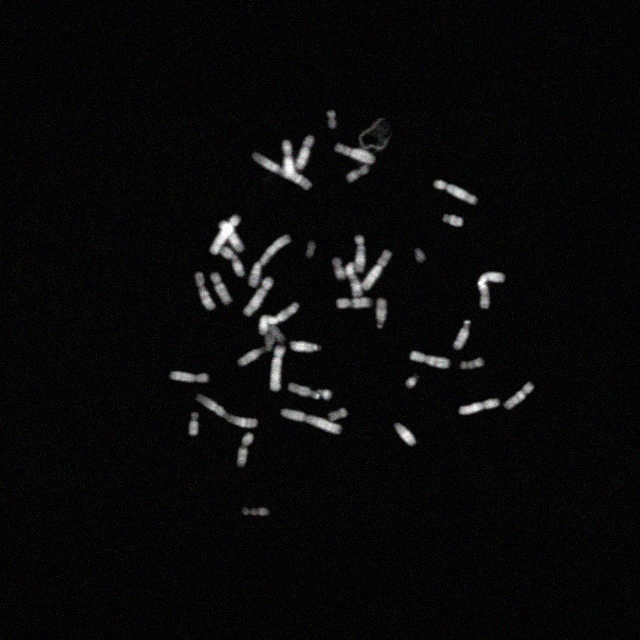chromosome: (252, 153, 313, 190), (248, 234, 290, 286), (197, 394, 258, 428), (281, 408, 341, 434), (258, 302, 300, 334), (243, 276, 274, 316), (210, 213, 240, 254), (362, 250, 392, 290), (236, 336, 274, 366), (433, 180, 477, 204), (478, 272, 504, 308), (218, 220, 245, 252), (334, 144, 376, 164), (504, 383, 534, 409), (195, 272, 215, 308), (410, 351, 450, 369), (220, 248, 244, 276), (270, 346, 284, 392), (211, 272, 231, 304), (296, 136, 314, 170), (346, 262, 362, 298), (287, 383, 319, 401), (458, 400, 499, 414), (238, 432, 254, 466), (452, 319, 470, 349), (354, 234, 366, 274), (396, 422, 416, 446), (170, 370, 208, 382), (282, 140, 293, 180), (347, 165, 369, 182), (337, 298, 373, 308), (377, 298, 388, 328), (290, 342, 320, 352), (461, 357, 484, 369), (442, 215, 462, 228), (332, 258, 344, 278), (328, 408, 348, 420), (189, 413, 199, 435), (304, 240, 316, 258), (327, 112, 338, 128), (317, 388, 331, 400), (404, 377, 418, 389), (414, 247, 424, 263)
